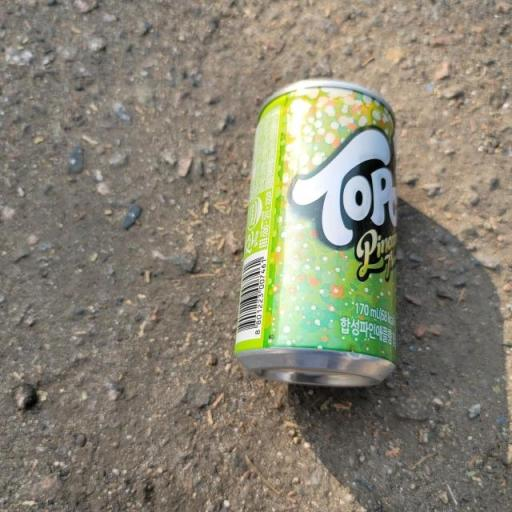metal: (209, 63, 429, 414)
